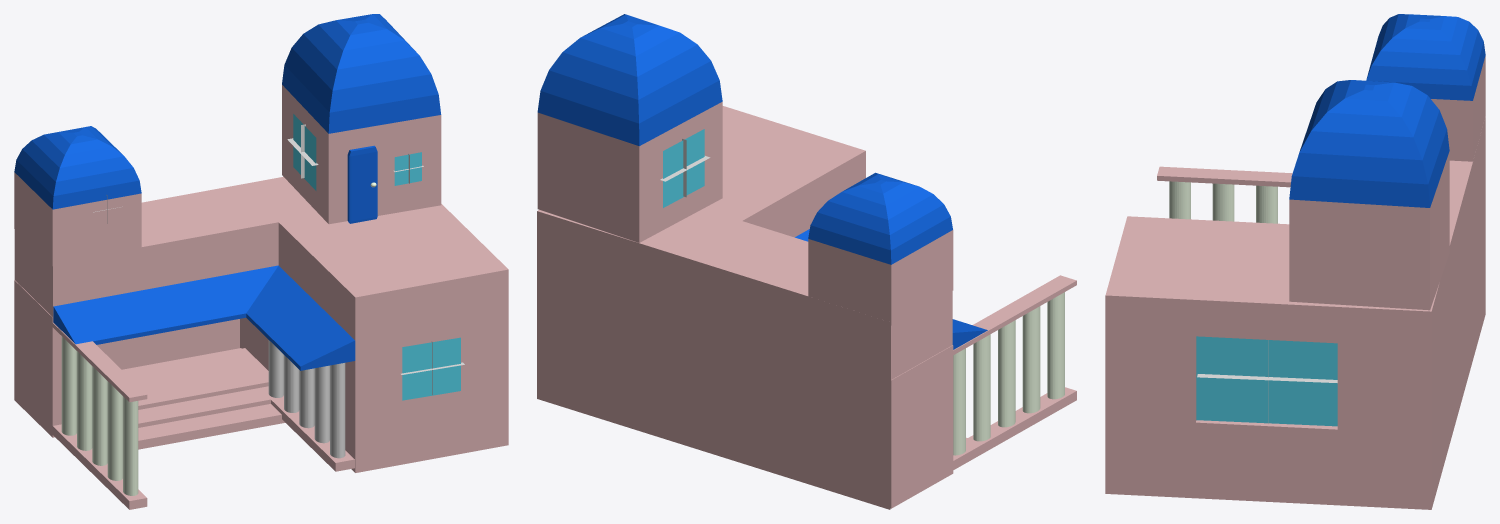
The model's file is Extracteur eau.fbx.
3 views of the same model, side by side, from view 1: azimuth 30°, elevation 25°; view 2: azimuth 150°, elevation 25°; view 3: azimuth 270°, elevation 25° (orthographic). The views are drawn at different scales.
Parts seen in each view (by area): view 1: Collection|HouseMain.002|Dupli|19, Collection|Coupole.004|Dupli|41, Collection|Cube.019|Dupli|39, Collection|Coupole.002|Dupli|42, Collection|Cube.021|Dupli|37, Collection|Cube.028|Dupli|30, Collection|Cube.027|Dupli|32, Collection|Cube.018|Dupli|40, Collection|Plane.002|Dupli|18, Collection|Cube.022|Dupli|31, Collection|window z.006|Dupli|1, Collection|Cube.023|Dupli|33 (+16 smaller); view 2: Collection|HouseMain.002|Dupli|19, Collection|Coupole.004|Dupli|41, Collection|Plane.002|Dupli|18, Collection|Cube.019|Dupli|39, Collection|Coupole.002|Dupli|42, Collection|Cube.018|Dupli|40, Collection|Cube.002|Dupli|38, Collection|window z.009|Dupli|4, Collection|Cube.026|Dupli|35, Collection|Cylinder.018|Dupli|27, Collection|Cylinder.019|Dupli|28, Collection|Cylinder.020|Dupli|29 (+3 smaller); view 3: Collection|HouseMain.002|Dupli|19, Collection|Coupole.004|Dupli|41, Collection|window z.007|Dupli|2, Collection|Coupole.002|Dupli|42, Collection|Plane.002|Dupli|18, Collection|Cube.019|Dupli|39, Collection|Cube.026|Dupli|35, Collection|Cylinder.018|Dupli|27, Collection|Cylinder.017|Dupli|26, Collection|Cylinder.019|Dupli|28, Collection|window x.008|Dupli|15.
Part boxes in pixels (x1,y1,x2,y2): Collection|HouseMain.002|Dupli|19: [240, 176, 508, 472]; Collection|Coupole.004|Dupli|41: [282, 14, 441, 224]; Collection|Cube.019|Dupli|39: [14, 184, 278, 322]; Collection|Coupole.002|Dupli|42: [14, 126, 141, 266]; Collection|Cube.021|Dupli|37: [53, 265, 278, 344]; Collection|Cube.028|Dupli|30: [246, 265, 355, 370]; Collection|Cube.027|Dupli|32: [123, 348, 268, 409]; Collection|Cube.018|Dupli|40: [14, 280, 61, 437]; Collection|Plane.002|Dupli|18: [97, 319, 239, 369]; Collection|Cube.022|Dupli|31: [138, 404, 285, 449]; Collection|window z.006|Dupli|1: [402, 337, 460, 400]; Collection|Cube.023|Dupli|33: [76, 386, 283, 433]; Collection|HouseMain.002|Dupli|19: [537, 106, 865, 443]; Collection|Coupole.004|Dupli|41: [537, 14, 722, 242]; Collection|Plane.002|Dupli|18: [680, 322, 890, 509]; Collection|Cube.019|Dupli|39: [676, 219, 952, 387]; Collection|Coupole.002|Dupli|42: [808, 172, 953, 325]; Collection|Cube.018|Dupli|40: [874, 345, 953, 508]; Collection|Cube.002|Dupli|38: [903, 387, 1076, 498]; Collection|window z.009|Dupli|4: [663, 129, 704, 207]; Collection|Cube.026|Dupli|35: [903, 275, 1076, 383]; Collection|Cylinder.018|Dupli|27: [1022, 306, 1040, 413]; Collection|Cylinder.019|Dupli|28: [998, 320, 1015, 427]; Collection|Cylinder.020|Dupli|29: [973, 334, 990, 441]; Collection|HouseMain.002|Dupli|19: [1105, 216, 1453, 509]; Collection|Coupole.004|Dupli|41: [1289, 80, 1449, 310]; Collection|window z.007|Dupli|2: [1196, 336, 1337, 426]; Collection|Coupole.002|Dupli|42: [1366, 14, 1485, 161]; Collection|Plane.002|Dupli|18: [1453, 195, 1485, 429]; Collection|Cube.019|Dupli|39: [1449, 116, 1485, 300]; Collection|Cube.026|Dupli|35: [1157, 166, 1292, 187]; Collection|Cylinder.018|Dupli|27: [1212, 183, 1234, 221]; Collection|Cylinder.017|Dupli|26: [1169, 181, 1190, 219]; Collection|Cylinder.019|Dupli|28: [1256, 185, 1277, 223]; Collection|window x.008|Dupli|15: [1197, 374, 1337, 382].
Bounding box in the file's own units: 458 × 393 × 348.
